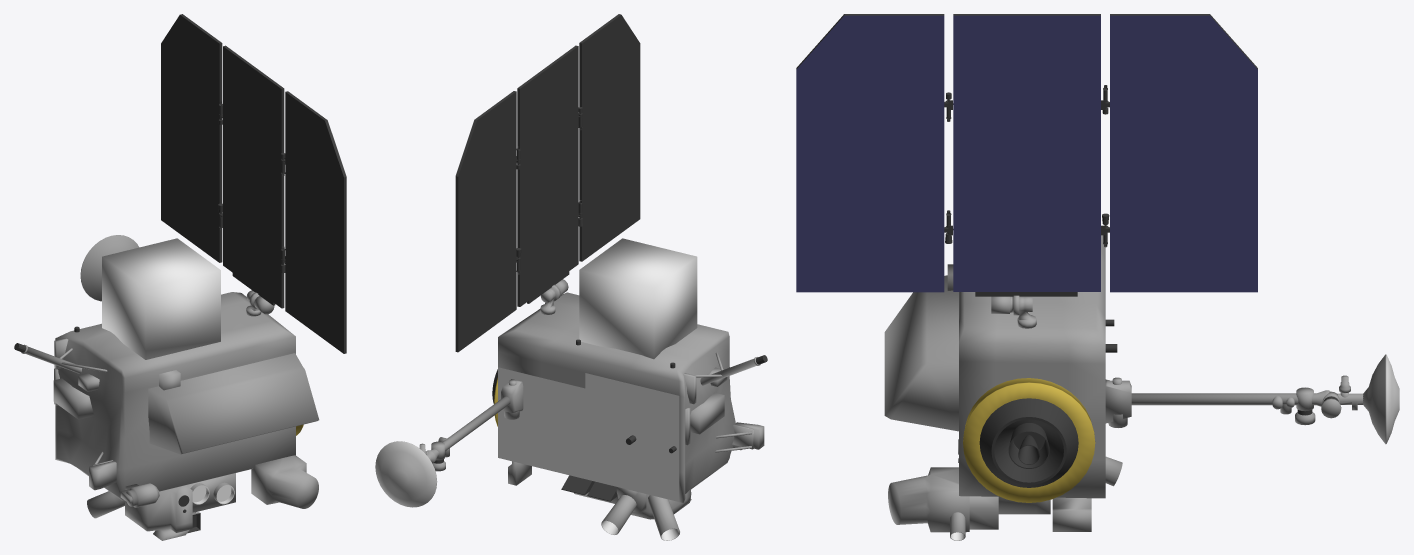
File: Satellite.glb
3 renders of one model, left to right at view 1: azimuth 30°, elevation 25°; view 2: azimuth 150°, elevation 25°; view 3: azimuth 270°, elevation 25°, orthographic. The views are drawn at different scales.
Visible parts, largest first — view 1: foil_silver, tex.275, tex.379, tex.273, _root, tex.385, tex.383, dark_black, tex.268; view 2: foil_silver, panel, tex.275, tex.273, tex.379, _root, foil_silver_dish, tex.380, tex.387, tex.270; view 3: foil_silver, tex.274, tex.378, tex.272, foil_gold, tex.004, tex.006, foil_silver_dish.
Boxes of the visible parts, x1,y1,x2,y2 form: foil_silver: (21,235,319,540); tex.275: (223,46,281,307); tex.379: (285,92,343,353); tex.273: (161,15,219,262); _root: (102,238,220,359); tex.385: (281,88,284,308); tex.383: (219,43,222,262); dark_black: (192,485,234,504); tex.268: (344,177,346,353); foil_silver: (396,279,764,540); panel: (498,367,679,501); tex.275: (520,46,578,306); tex.273: (458,91,516,351); tex.379: (582,15,640,261); _root: (579,238,697,359); foil_silver_dish: (375,441,436,507); tex.380: (455,176,458,352); tex.387: (517,88,519,306); tex.270: (579,43,581,261); foil_silver: (884,235,1386,540); tex.274: (953,15,1100,291); tex.378: (796,15,944,292); tex.272: (1110,15,1257,292); foil_gold: (963,378,1095,502); tex.004: (979,398,1078,487); tex.006: (994,419,1063,482); foil_silver_dish: (1386,355,1399,443).
Bounding box in the file's own units: 3.66 × 5.45 × 5.5.
